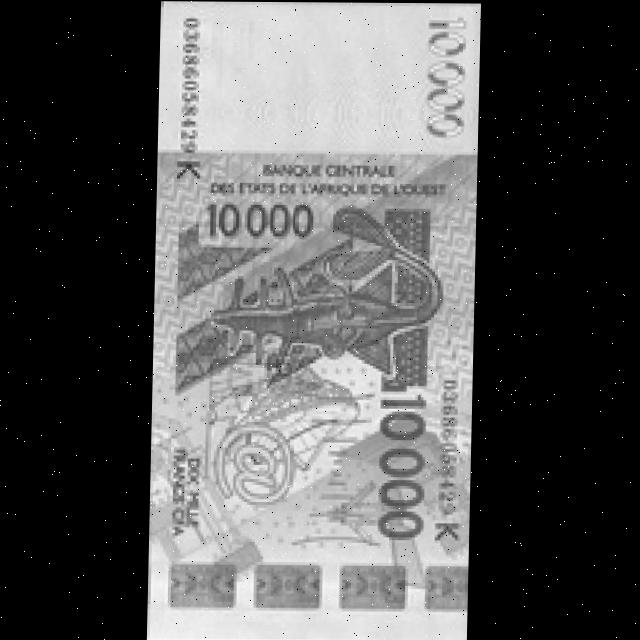banknote: (149, 1, 483, 640), (374, 392, 431, 543), (420, 9, 469, 144), (204, 197, 318, 243)
